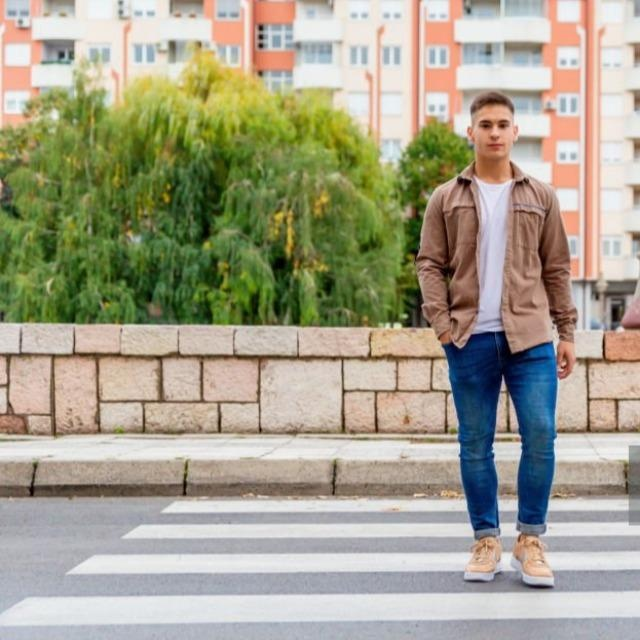Sin_Casco_Mascarrilla: (469, 89, 519, 164)
Sin_Chaleco: (428, 168, 556, 352)
